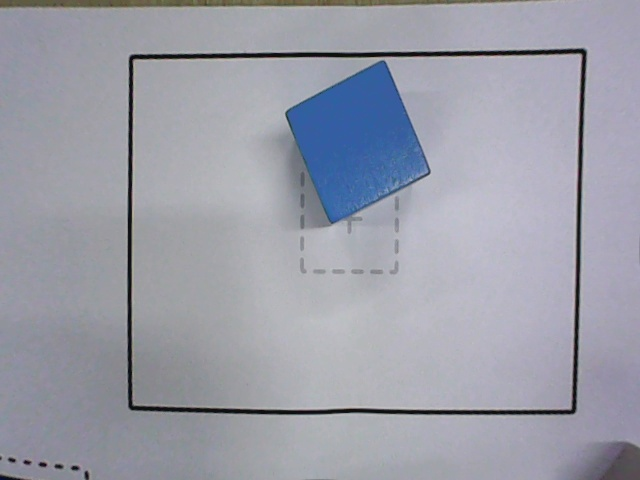upside of big cube: (283, 59, 432, 224)
